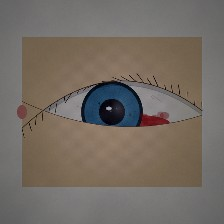hemorrhage_spot: (87, 85, 183, 161)
